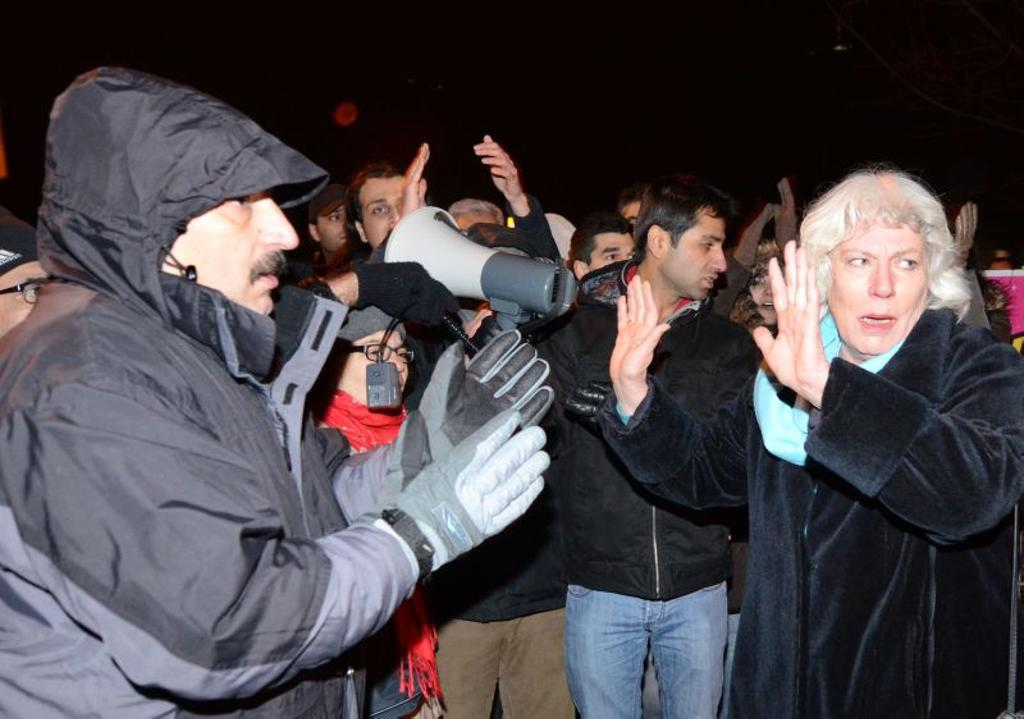face: (176, 168, 299, 316), (827, 227, 928, 354), (1, 261, 63, 368), (664, 214, 727, 300), (363, 184, 420, 254), (591, 237, 636, 302), (618, 205, 666, 264), (749, 262, 786, 326), (319, 205, 356, 251), (458, 219, 498, 247)
